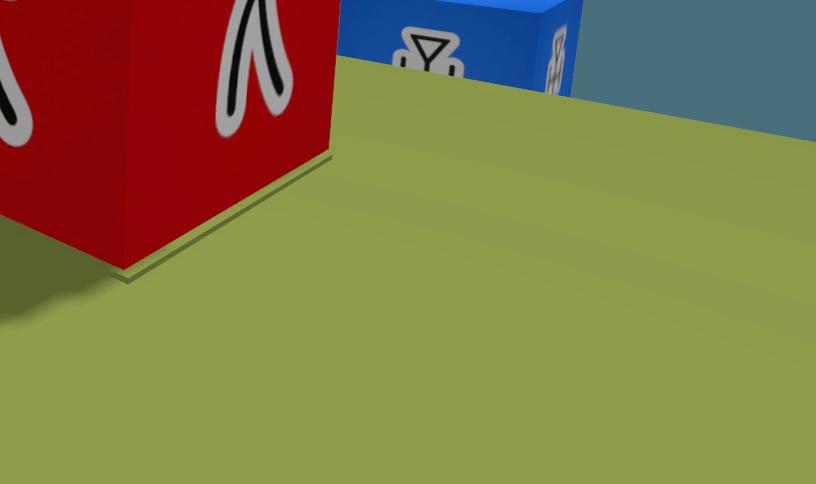KFS_FAKE: (0, 0, 340, 267), (216, 0, 294, 136), (0, 34, 32, 146)
KFS_REAL: (338, 0, 583, 94), (387, 29, 459, 75)
